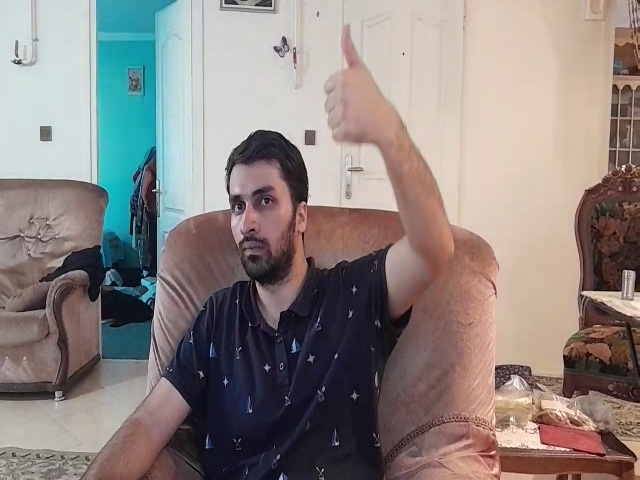ThumbsUp: (321, 21, 392, 145)
